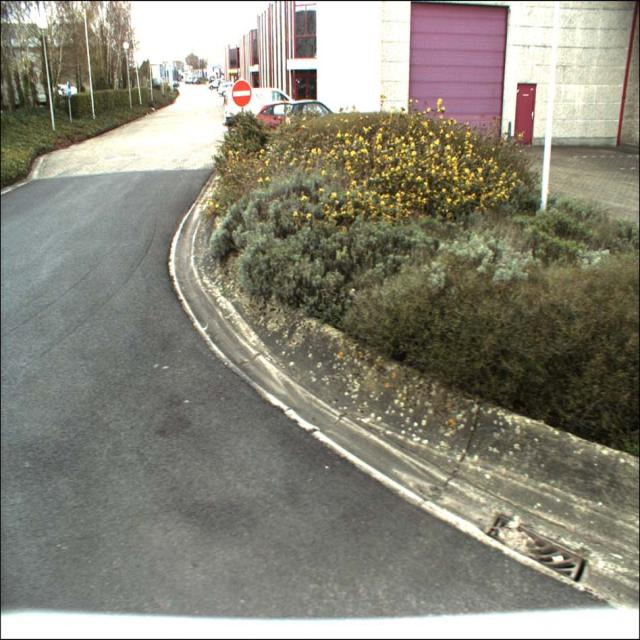girisyok: (231, 79, 252, 107)
